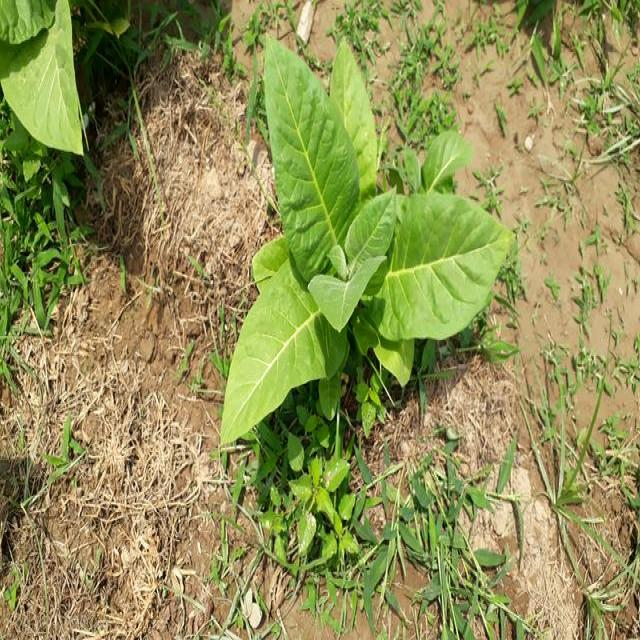crop: (218, 28, 510, 450)
